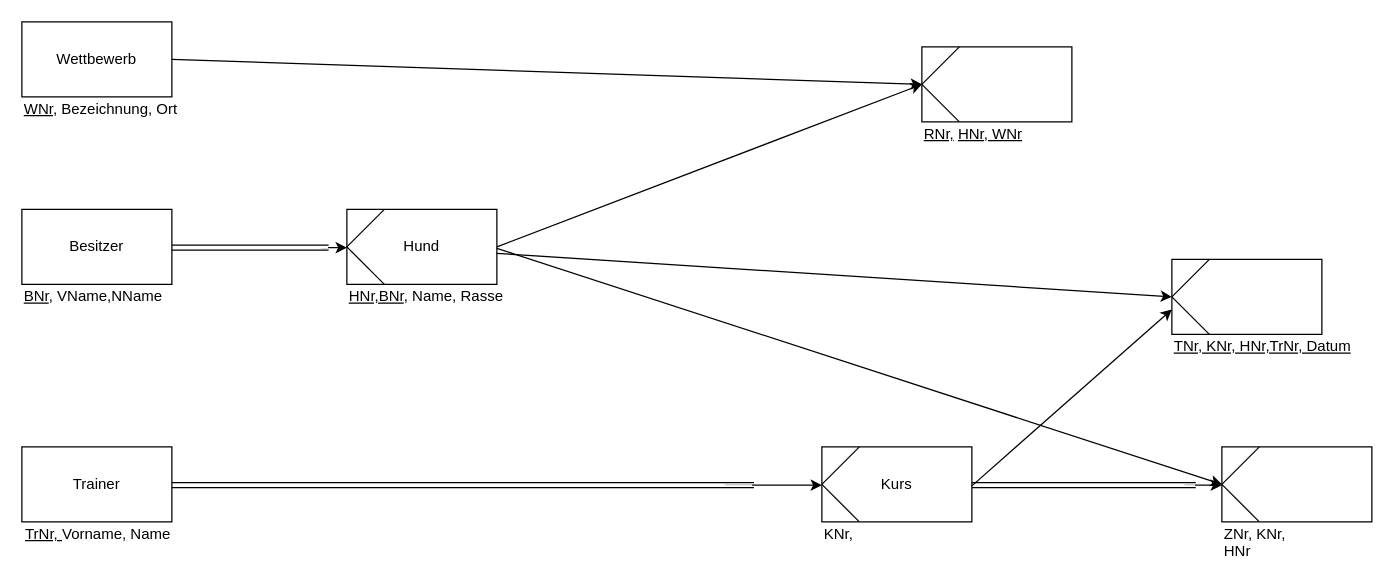
This 1394x584 diagram has some shape labels left out. The centre of each missing label's shape, as x and y in pixels:
Rudel: the point at 996,84
Termin: the point at 1246,296
Zertifikat: the point at 1296,484
